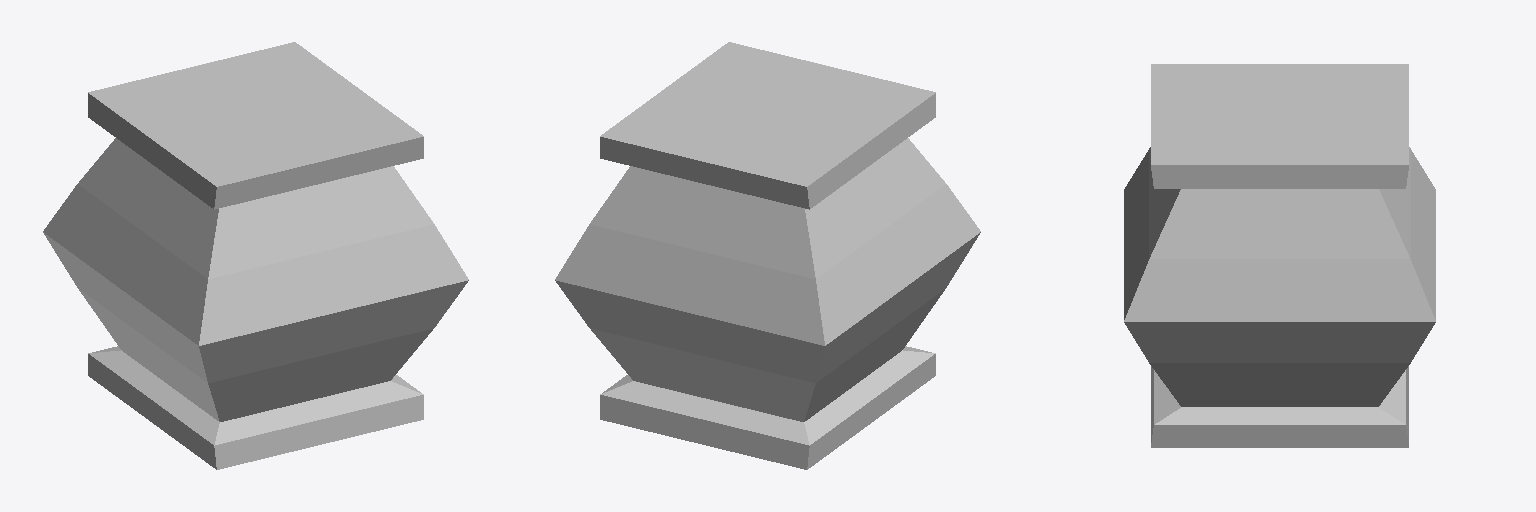
Rendered from boostBox.obj.
3 renders of one model, left to right at view 1: azimuth 30°, elevation 25°; view 2: azimuth 150°, elevation 25°; view 3: azimuth 270°, elevation 25°, orthographic.
Visible parts, largest first — view 1: Cube; view 2: Cube; view 3: Cube.
Boxes of the visible parts, x1,y1,x2,y2 form: Cube: [43, 42, 468, 469]; Cube: [555, 42, 980, 469]; Cube: [1124, 64, 1435, 447].
Size of the model in its own units: 2 by 2 by 2.